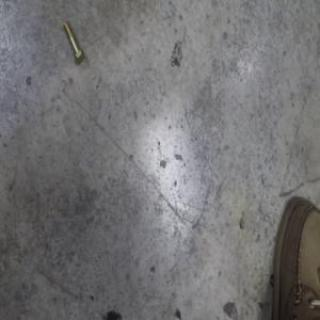Bolttrack_idkeyframe: (62, 18, 85, 66)
